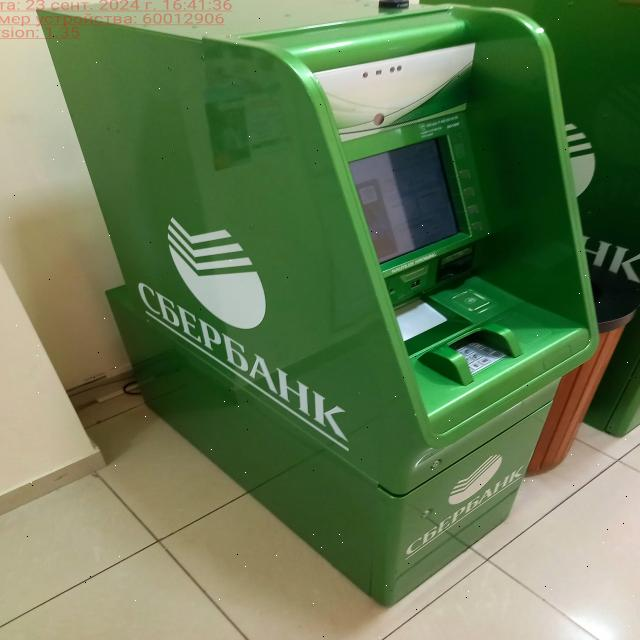bank: (31, 0, 601, 605), (420, 0, 640, 441)
